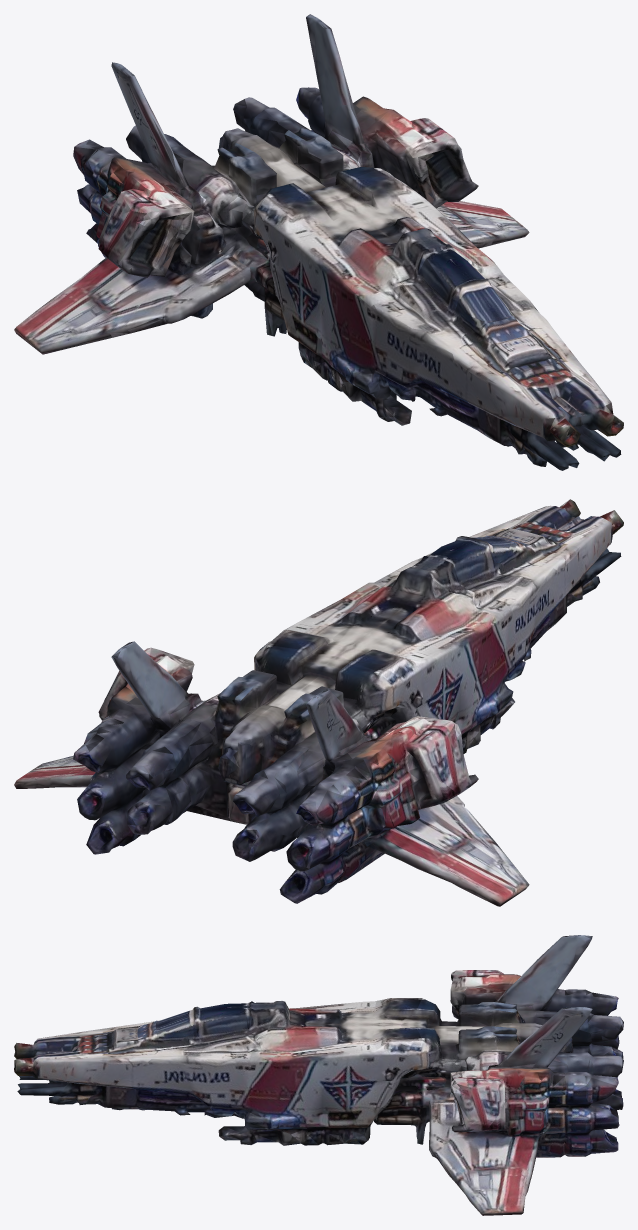
The model's file is liberator_heavy.glb.
3 views of the same model, one above another, from view 1: azimuth 30°, elevation 25°; view 2: azimuth 150°, elevation 25°; view 3: azimuth 270°, elevation 25° (orthographic). The views are drawn at different scales.
Parts seen in each view (by area): view 1: liberator_fighter_a; view 2: liberator_fighter_a; view 3: liberator_fighter_a.
Boxes of the visible parts, bbox=[...] form: liberator_fighter_a: bbox=[14, 14, 623, 470]; liberator_fighter_a: bbox=[14, 499, 623, 906]; liberator_fighter_a: bbox=[14, 935, 623, 1215].
Bounding box in the file's own units: 0.2714 × 0.1092 × 0.3877.
1 material, 1 textured.
